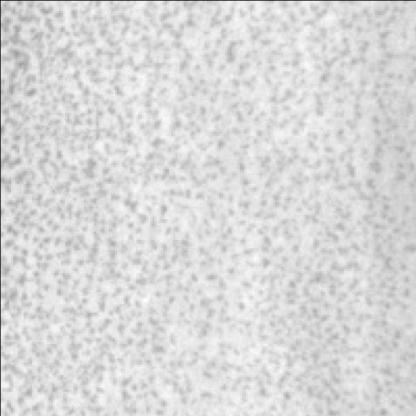pitted_surface: (2, 9, 404, 404)
